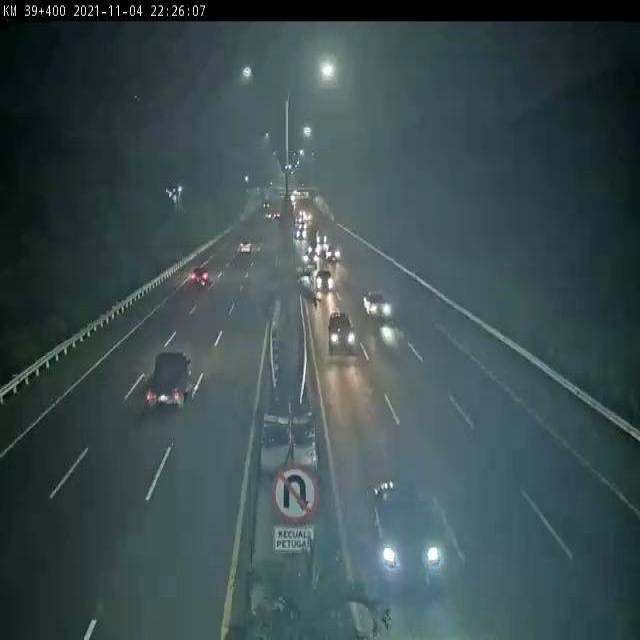car: (373, 481, 460, 600), (328, 308, 357, 365), (365, 283, 392, 329), (188, 268, 209, 301), (318, 265, 332, 300), (240, 235, 258, 260)
truck-s-: (146, 340, 198, 417)
